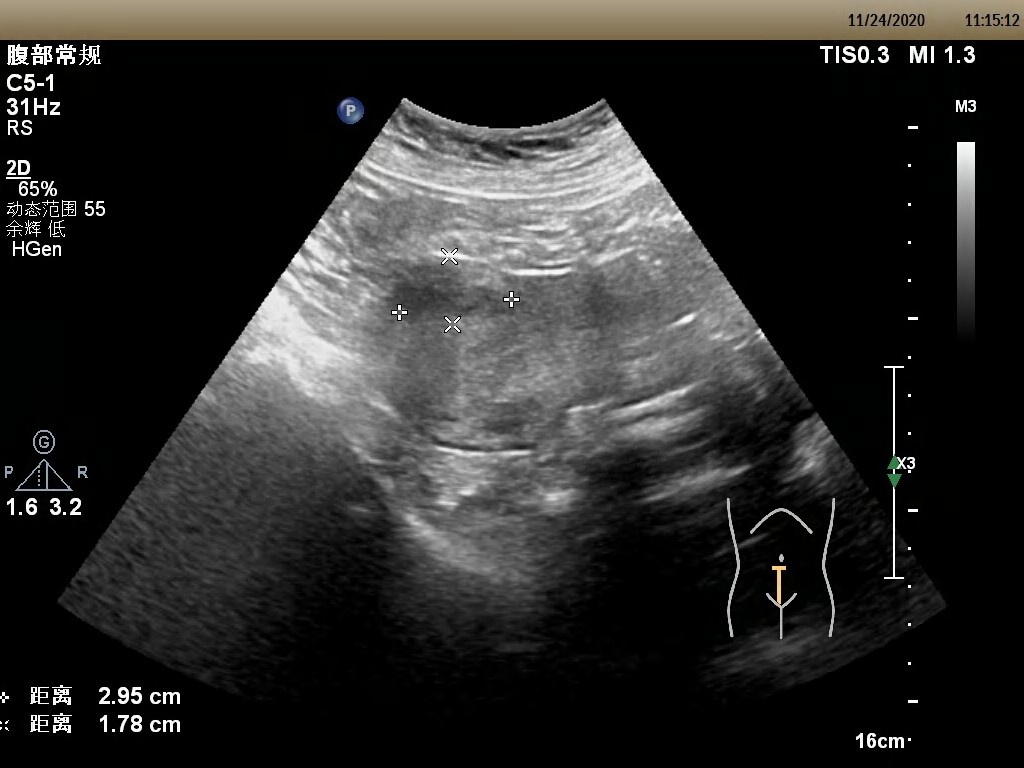肌瘤: (399, 255, 513, 324)
